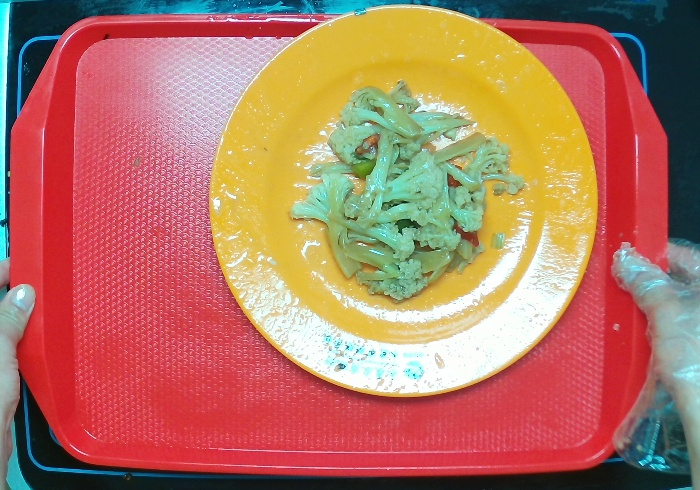YKMZ-Ju_Se_Mian_Pan: (207, 3, 600, 399)
